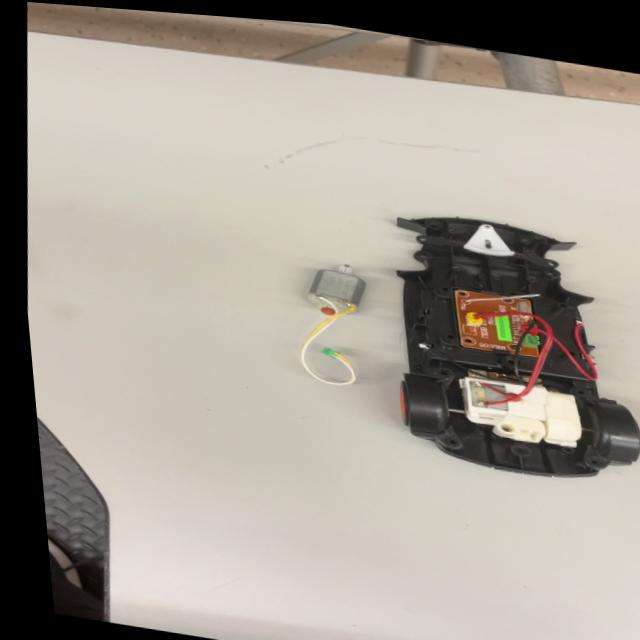Chassis: (359, 199, 640, 496)
motor: (296, 251, 374, 331)
